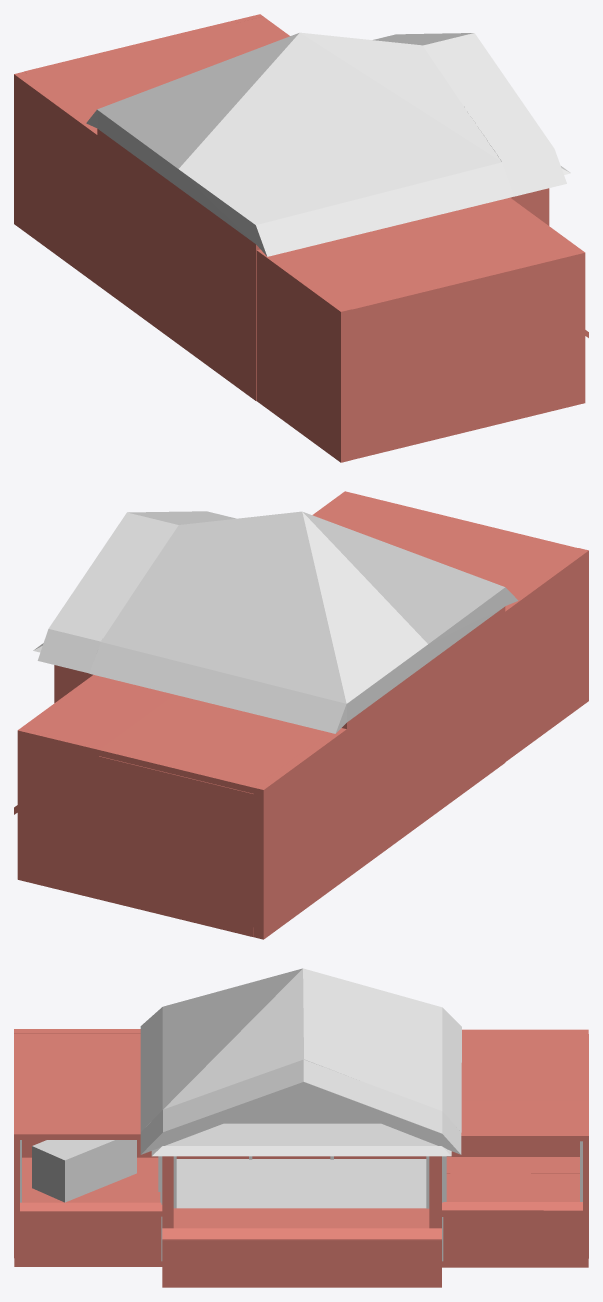
File: Shop.fbx
3 renders of one model, top to bottom at view 1: azimuth 30°, elevation 25°; view 2: azimuth 150°, elevation 25°; view 3: azimuth 270°, elevation 25°, orthographic. The views are drawn at different scales.
Visible parts, largest first — view 1: Cube, Cube.002, Cube.005; view 2: Cube, Cube.002, Cube.005; view 3: Cube, Cube.002, Cube.003, Cube.005, Cube.001, Cube.004, Poll.
Boxes of the visible parts, x1,y1,x2,y2 form: Cube: (14, 14, 588, 462); Cube.002: (86, 32, 514, 256); Cube.005: (373, 33, 566, 196); Cube: (14, 491, 588, 939); Cube.002: (89, 511, 518, 733); Cube.005: (37, 511, 235, 673); Cube: (14, 1029, 588, 1287); Cube.002: (140, 968, 461, 1132); Cube.003: (176, 1159, 426, 1208); Cube.005: (140, 1059, 461, 1154); Cube.001: (151, 1123, 451, 1156); Cube.004: (32, 1140, 136, 1202); Poll: (161, 1156, 443, 1261).
Bounding box in the file's own units: 1332 × 1151 × 2429.
